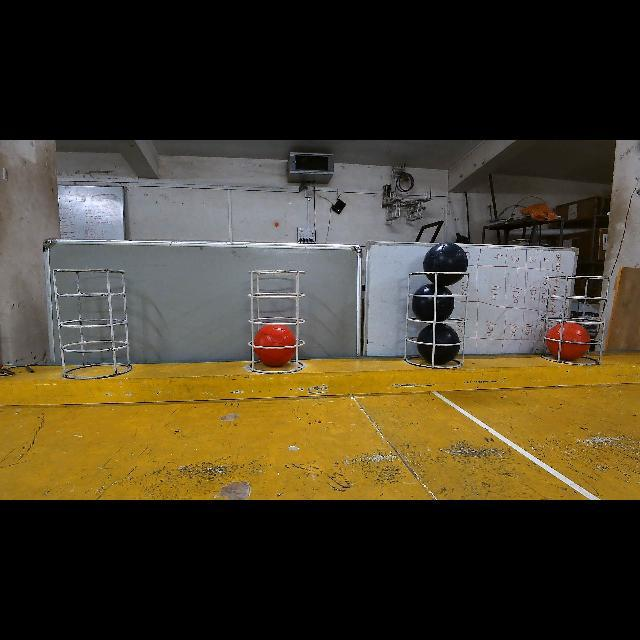P: (422, 242, 468, 286), (418, 322, 461, 365), (411, 284, 455, 322)
R: (545, 322, 590, 361), (254, 325, 296, 366)
S: (58, 266, 136, 384), (401, 268, 474, 372), (538, 268, 608, 369), (248, 262, 306, 376)
